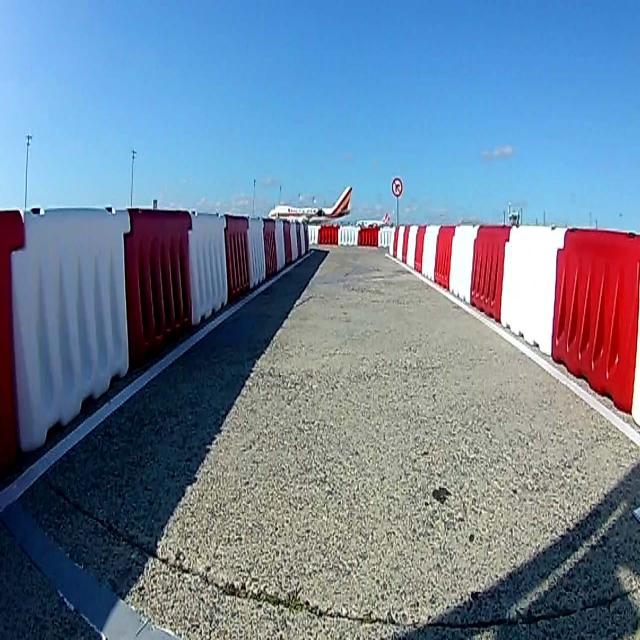sagadonulmez: (392, 179, 403, 197)
